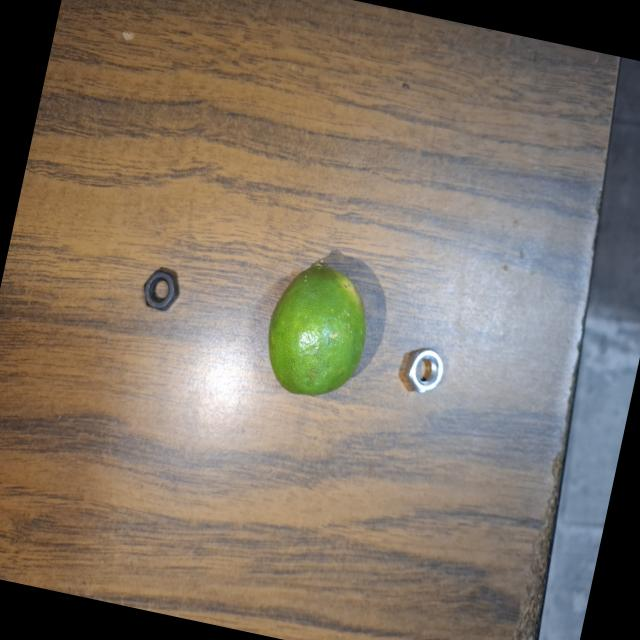limon: (246, 243, 388, 412)
milimetrico: (137, 260, 192, 318)
tuerca: (394, 338, 458, 402)
